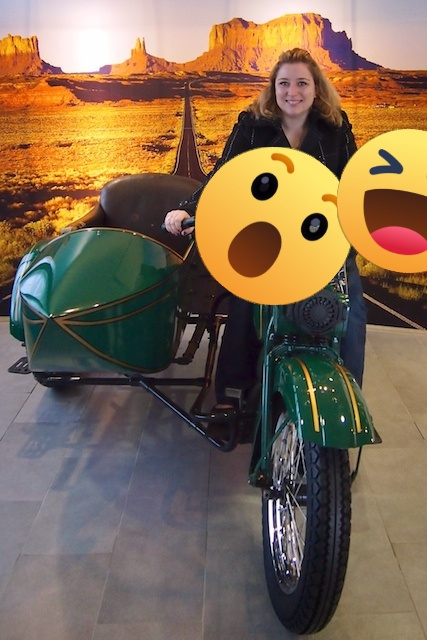haha: (337, 129, 427, 273)
wow: (195, 147, 353, 305)
